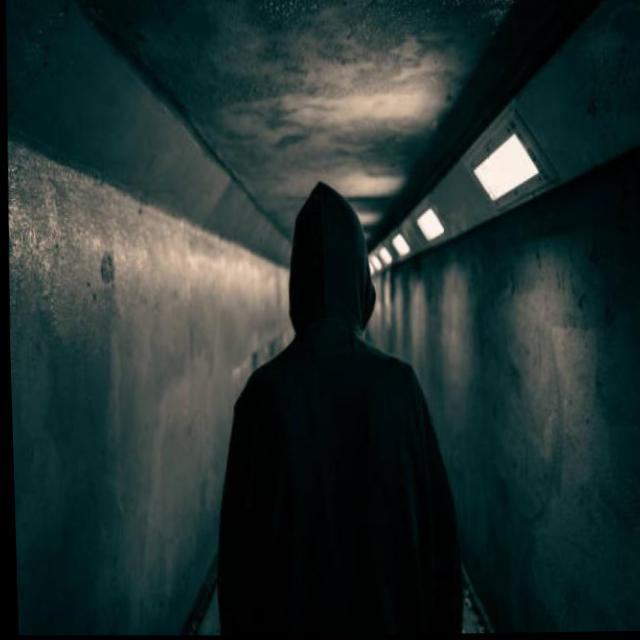no helmet: (246, 166, 391, 352)
